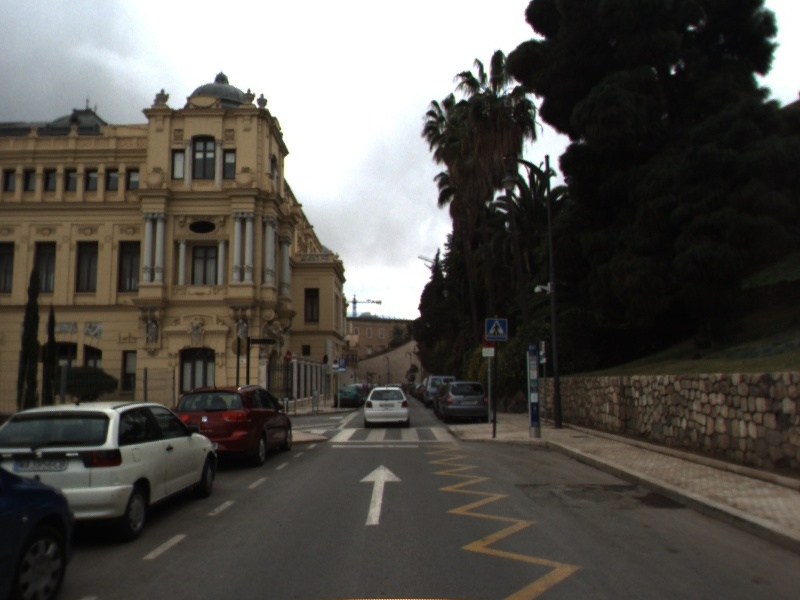STRAIGHT: (357, 462, 405, 527)
